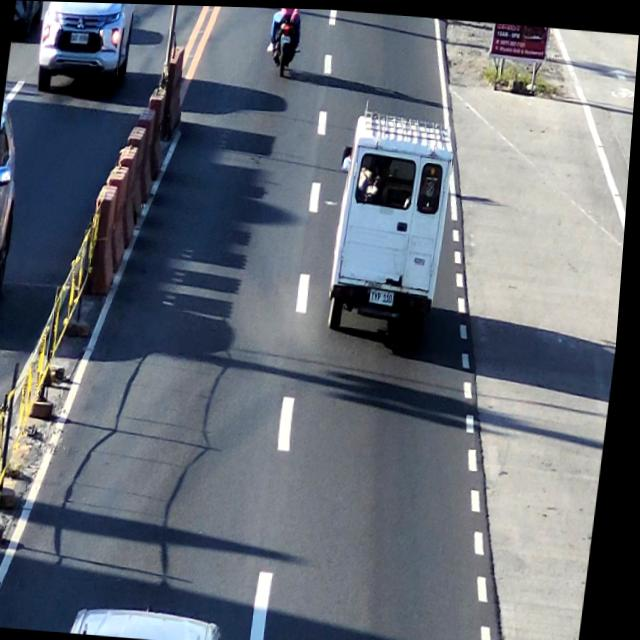Car: (332, 111, 456, 345), (77, 604, 239, 640)
License-Plate: (373, 282, 401, 307), (68, 30, 89, 45), (281, 33, 292, 44)
Motorcycle: (265, 6, 304, 76)
